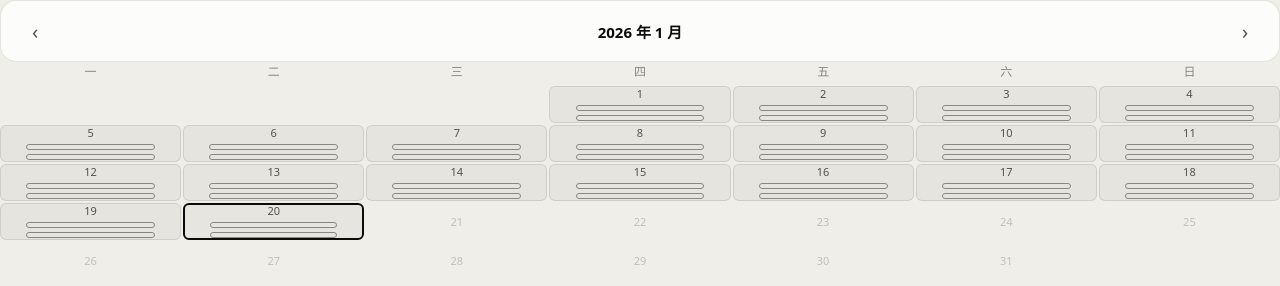
Test case: 日历视图 › 翻到上个月：已过去的月份仍然渲染出网格
The width and height of the screenshot is (1280, 286).
Click the button named "上个月" at (35, 31), box [13, 9, 57, 53]
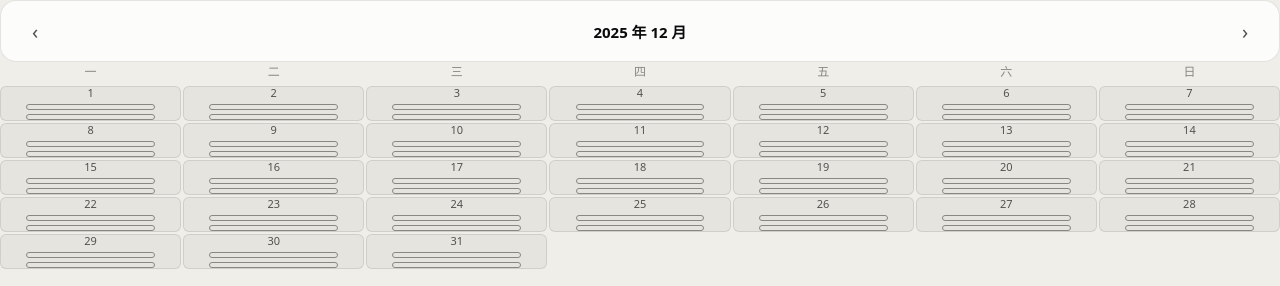
Expected: the link "1" is shown, [0, 86, 181, 121]
Now the text "2025 年 12 月" is shown, box [593, 20, 687, 42]
